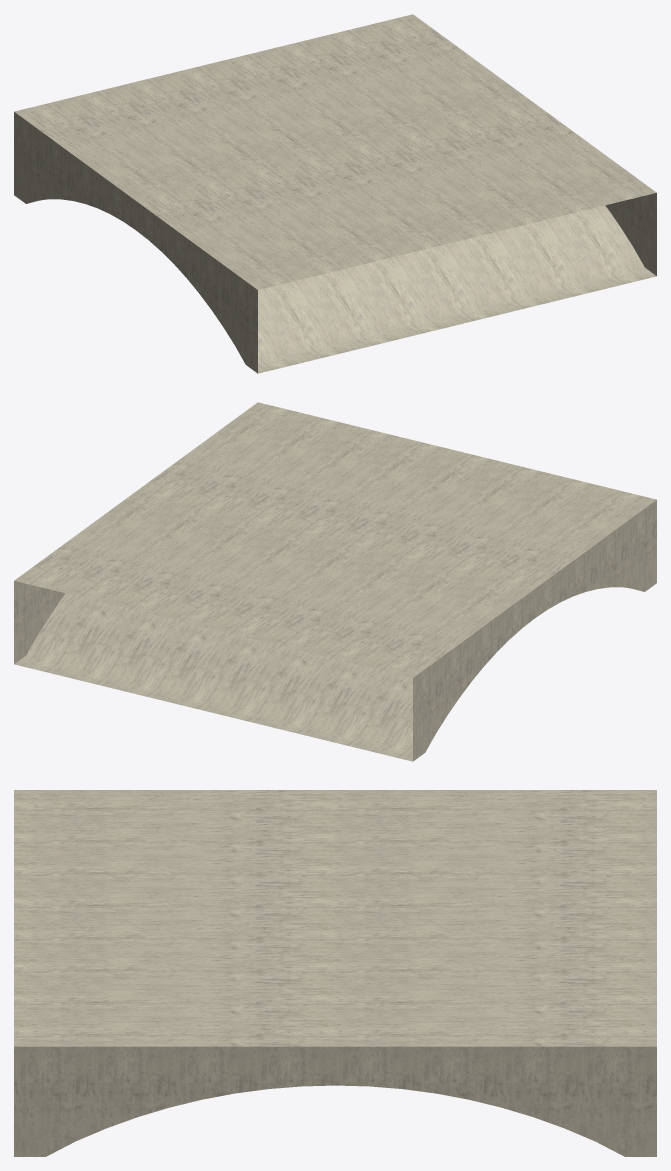
The model's file is BridgeBase7-6L-40M.fbx.
3 renders of one model, top to bottom at view 1: azimuth 30°, elevation 25°; view 2: azimuth 150°, elevation 25°; view 3: azimuth 270°, elevation 25°, orthographic. The views are drawn at different scales.
Visible parts, largest first — view 1: BridgeBase7-6L-40M; view 2: BridgeBase7-6L-40M; view 3: BridgeBase7-6L-40M.
Boxes of the visible parts, x1,y1,x2,y2 form: BridgeBase7-6L-40M: [14, 14, 656, 373]; BridgeBase7-6L-40M: [14, 402, 656, 761]; BridgeBase7-6L-40M: [14, 790, 656, 1156].
Bounding box in the file's own units: 38 × 7.61 × 40.23.
